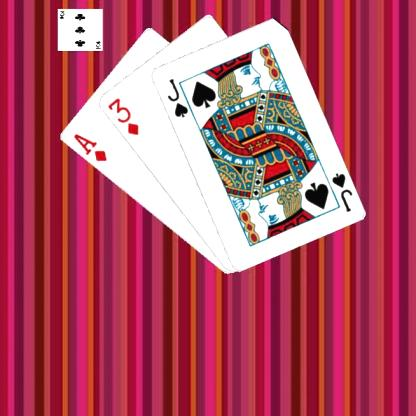3D: (104, 95, 140, 137)
AD: (70, 130, 108, 163)
JS: (164, 76, 190, 119), (328, 170, 353, 213)
